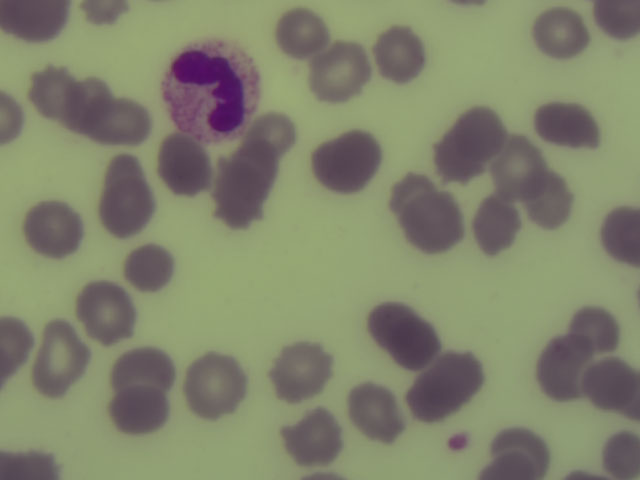Platelets: (446, 427, 477, 461)
RBC: (406, 194, 462, 251), (107, 347, 175, 393), (35, 330, 85, 389), (1, 1, 73, 41), (471, 202, 524, 254), (525, 173, 578, 225), (489, 135, 542, 187), (442, 114, 495, 166), (317, 136, 370, 188), (417, 359, 470, 411), (378, 307, 431, 359), (349, 384, 402, 436), (285, 409, 338, 461), (275, 344, 328, 396), (186, 358, 239, 410), (113, 383, 166, 435), (77, 287, 130, 339), (122, 243, 175, 295), (26, 203, 79, 255), (241, 112, 294, 164), (213, 171, 266, 223), (99, 176, 152, 228), (158, 137, 211, 189), (25, 64, 78, 116), (540, 99, 593, 151), (534, 8, 587, 60), (373, 27, 426, 79), (315, 44, 368, 96), (275, 7, 328, 59), (585, 355, 638, 407), (534, 341, 587, 393), (492, 428, 545, 479), (597, 208, 640, 267), (94, 99, 151, 140), (386, 169, 435, 216), (1, 80, 33, 151), (1, 315, 38, 372), (588, 1, 640, 40), (599, 432, 640, 480), (570, 306, 619, 346), (66, 81, 105, 126)
WBC: (162, 39, 262, 137)
